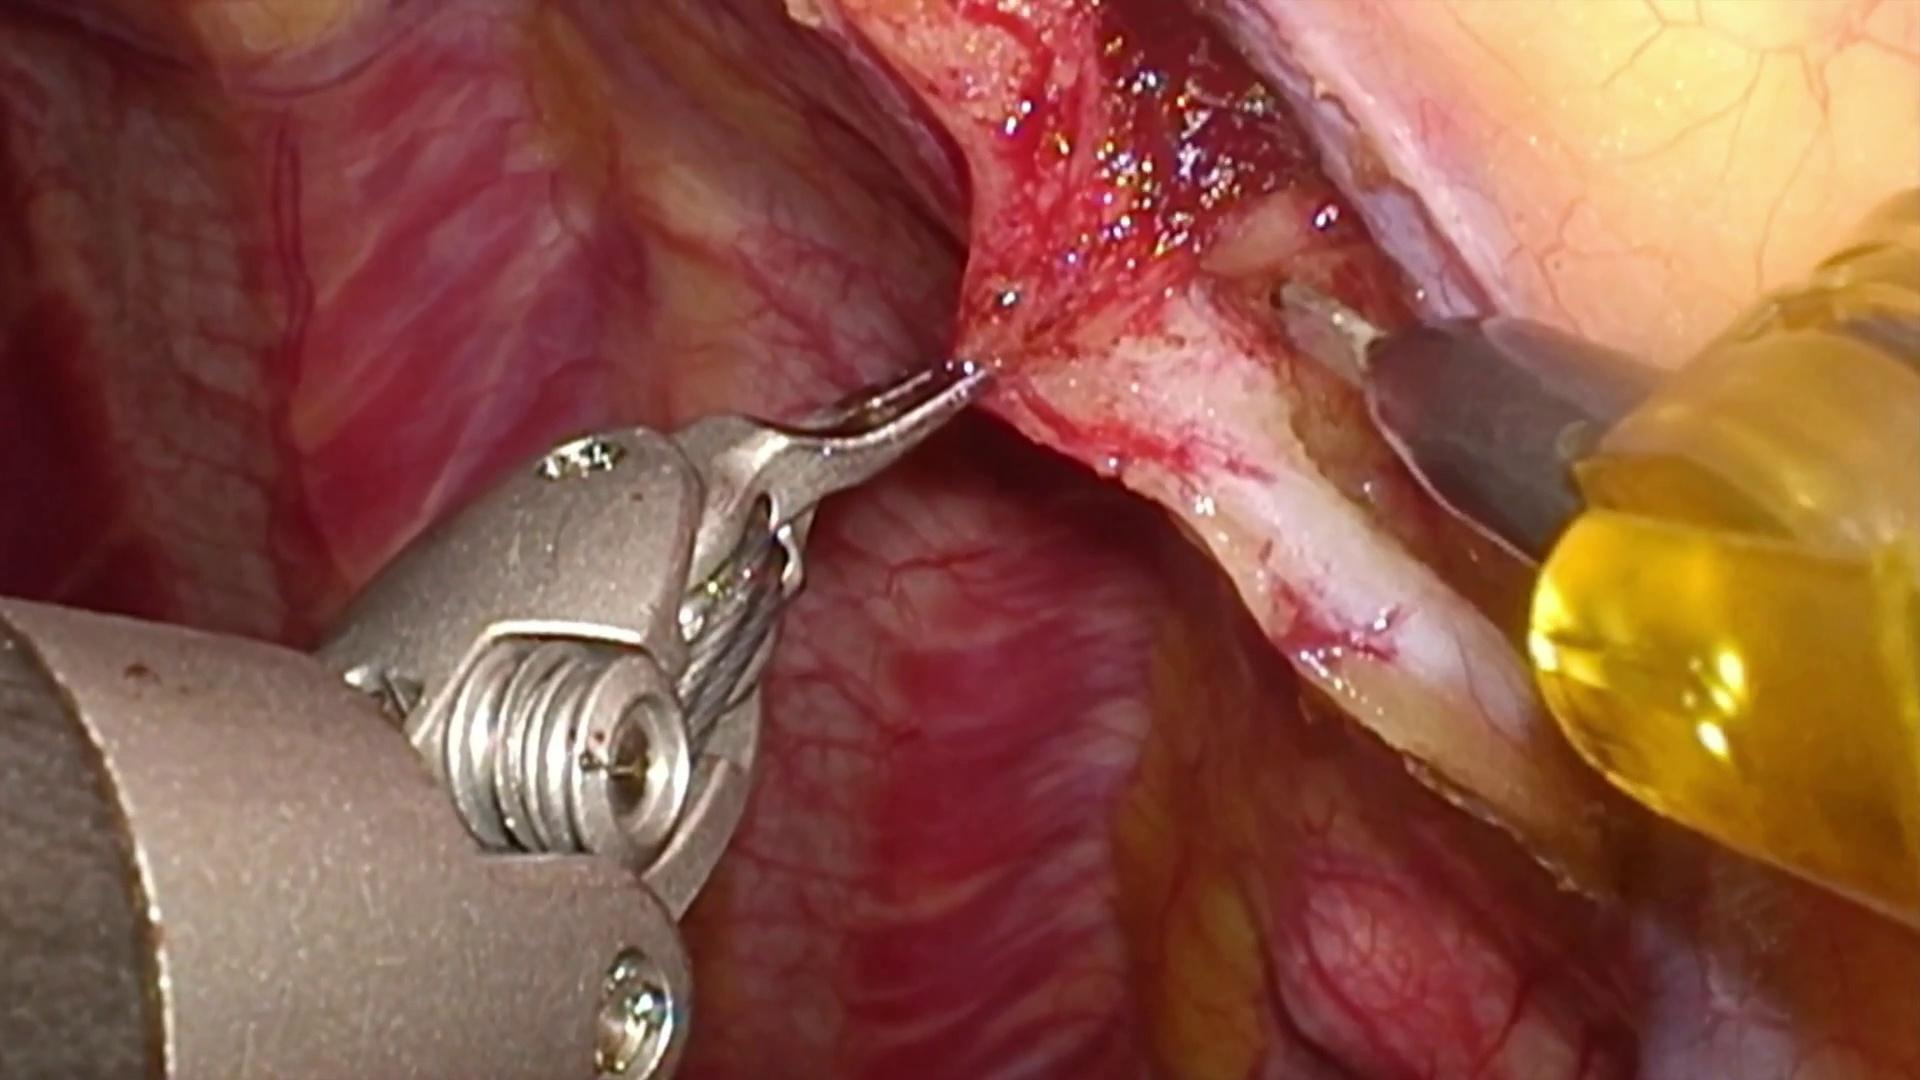Cautery_Spatula: (1261, 281, 1685, 566)
Debakey: (674, 331, 990, 589)
